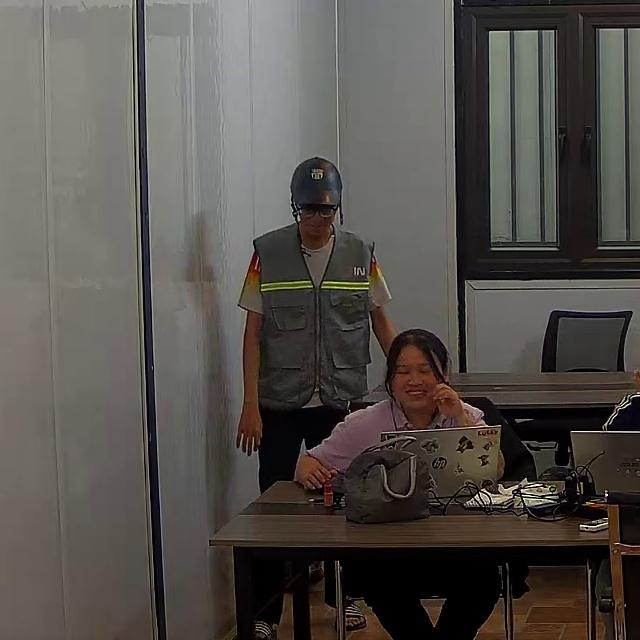helmet: (290, 157, 342, 228)
no_helmet: (383, 329, 451, 411)
none: (301, 398, 482, 484)
vest: (252, 228, 374, 408)
